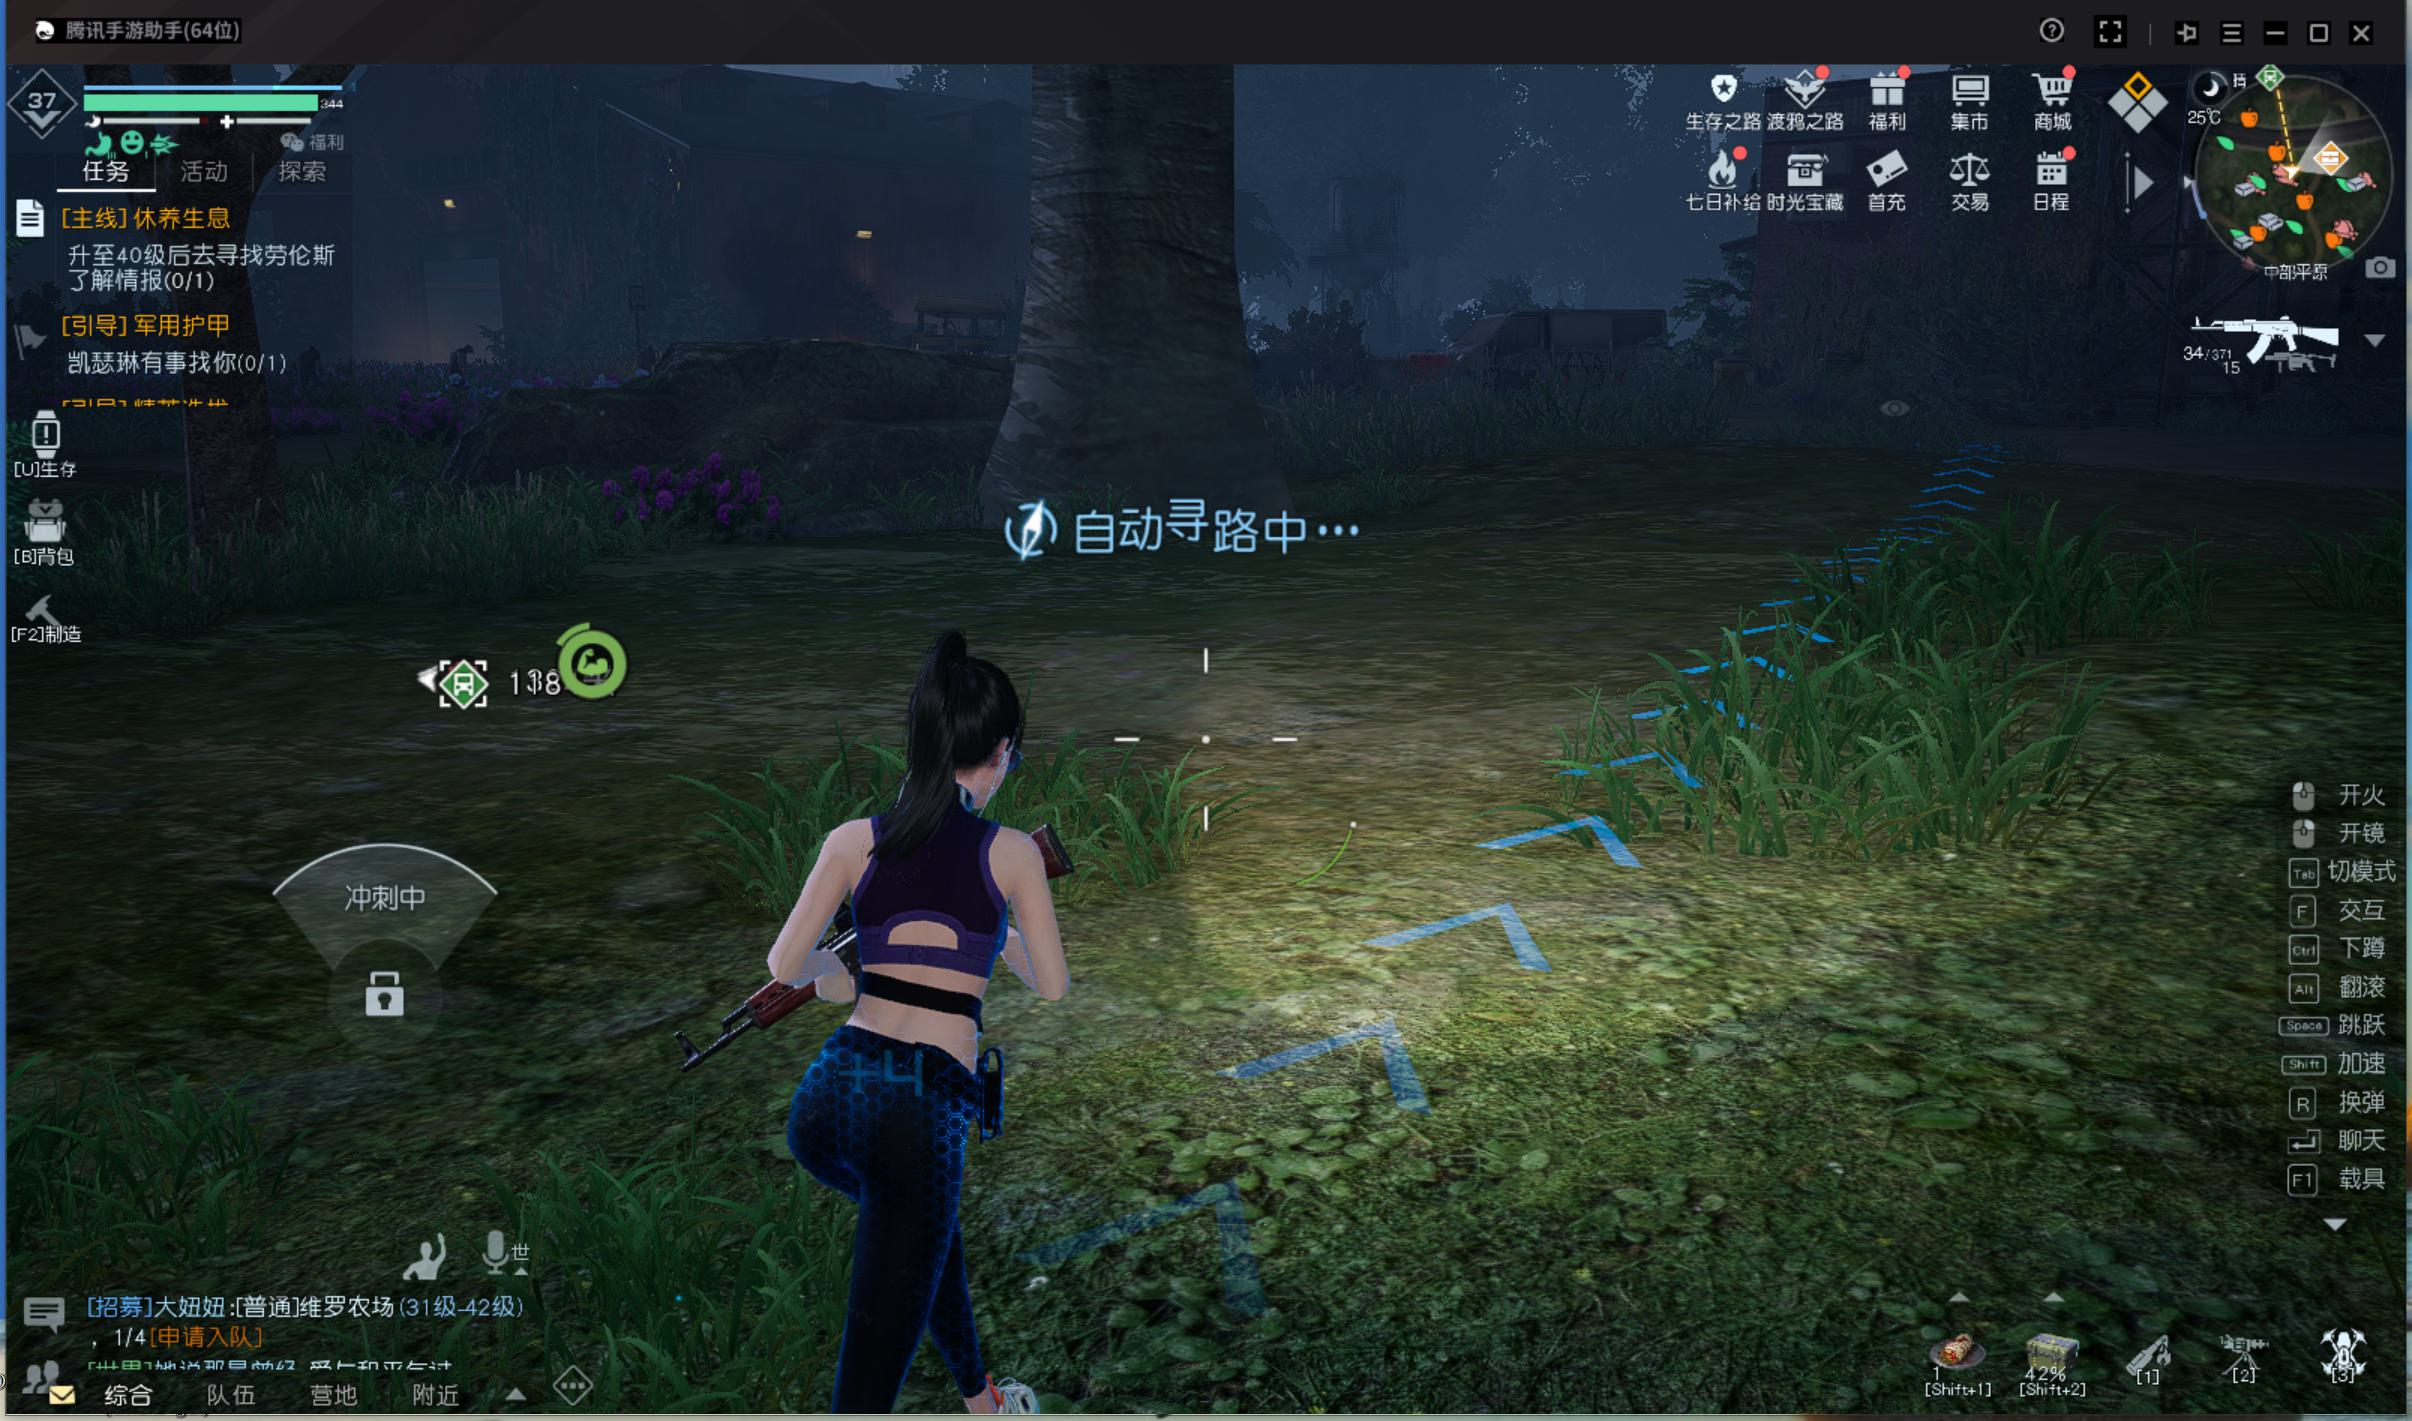tree: (974, 125, 1297, 538)
